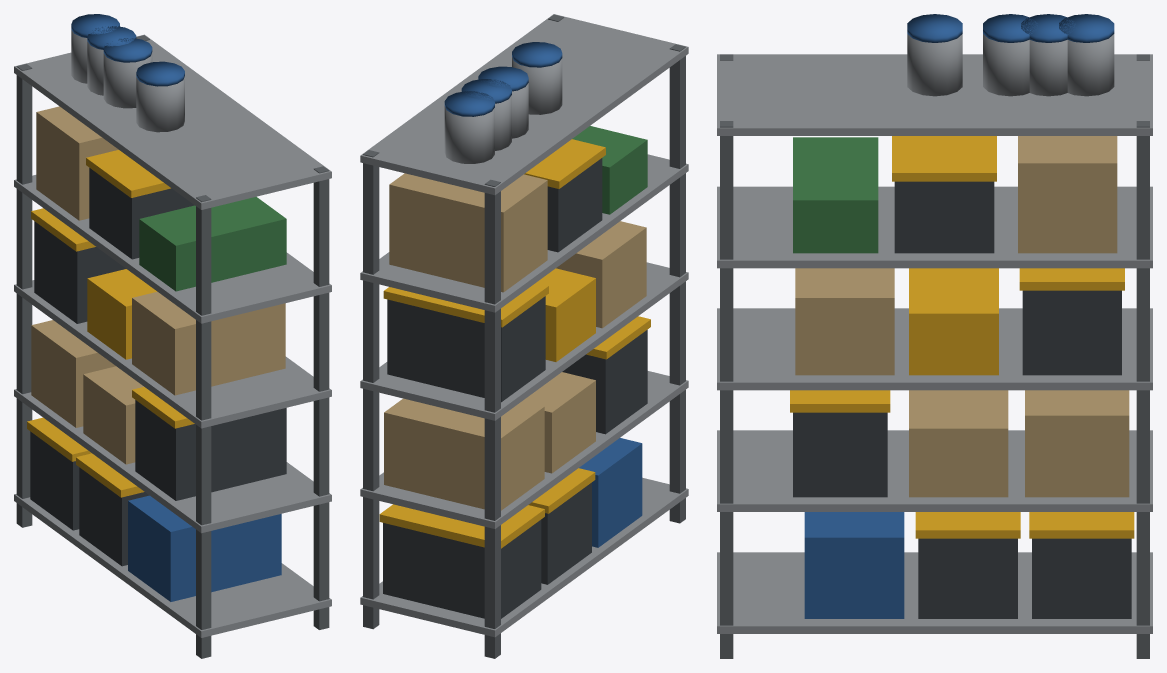
The model's file is garage_shelving.glb.
The picture shows the model from 3 angles, left to right: view 1: azimuth 30°, elevation 25°; view 2: azimuth 150°, elevation 25°; view 3: azimuth 270°, elevation 25°; orthographic projection. The views are drawn at different scales.
Parts seen in each view (by area): view 1: root; view 2: root; view 3: root.
Boxes of the visible parts, bbox=[...] form: root: bbox=[14, 14, 331, 658]; root: bbox=[360, 14, 688, 658]; root: bbox=[717, 14, 1152, 658].
Size of the model in its own units: 0.5639 by 2.09 by 1.4.
